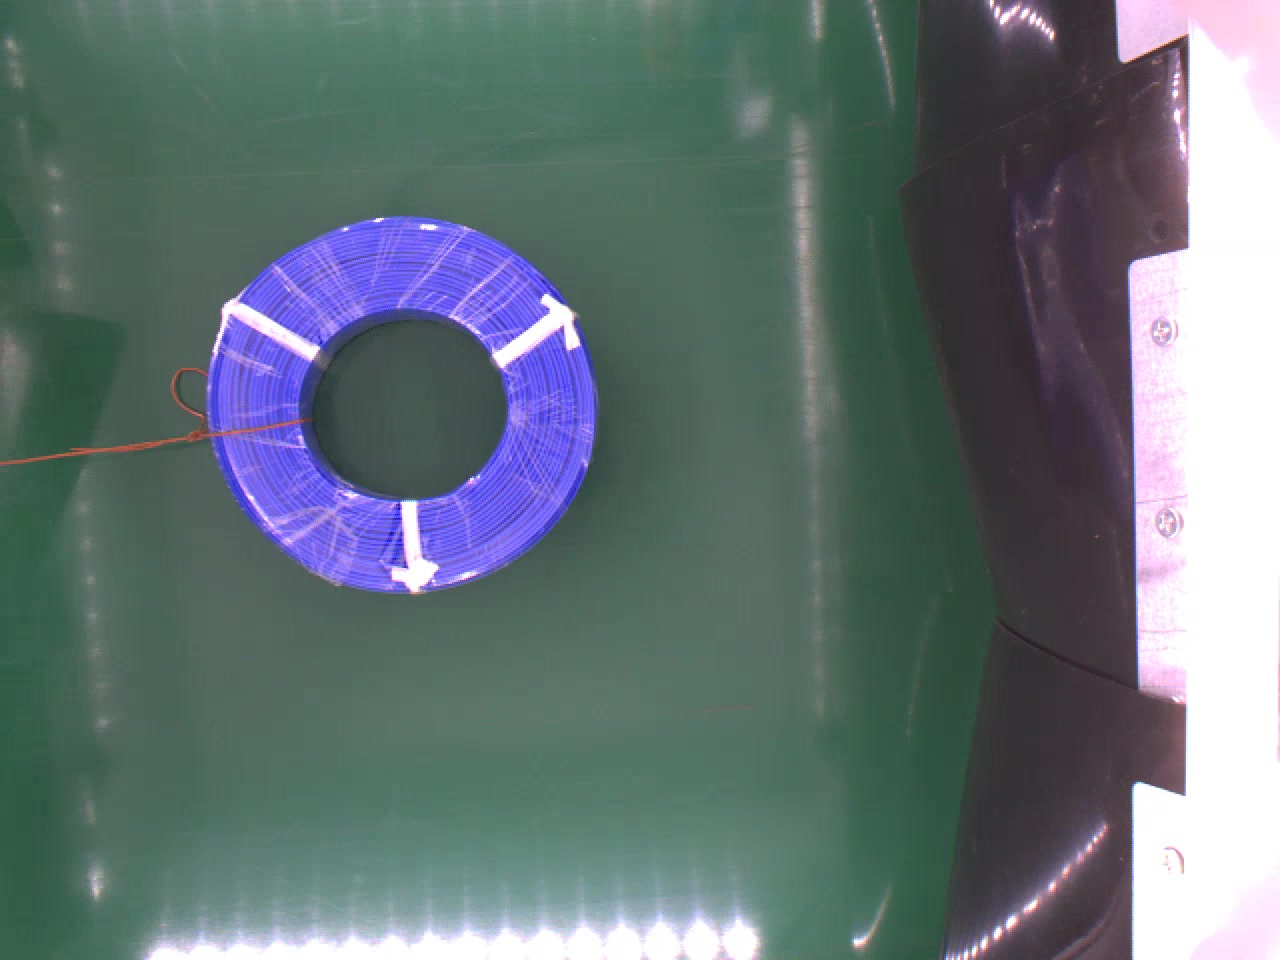blue: (204, 213, 599, 593)
